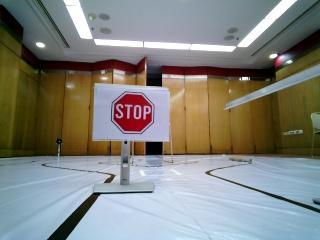stop: (91, 89, 177, 141)
